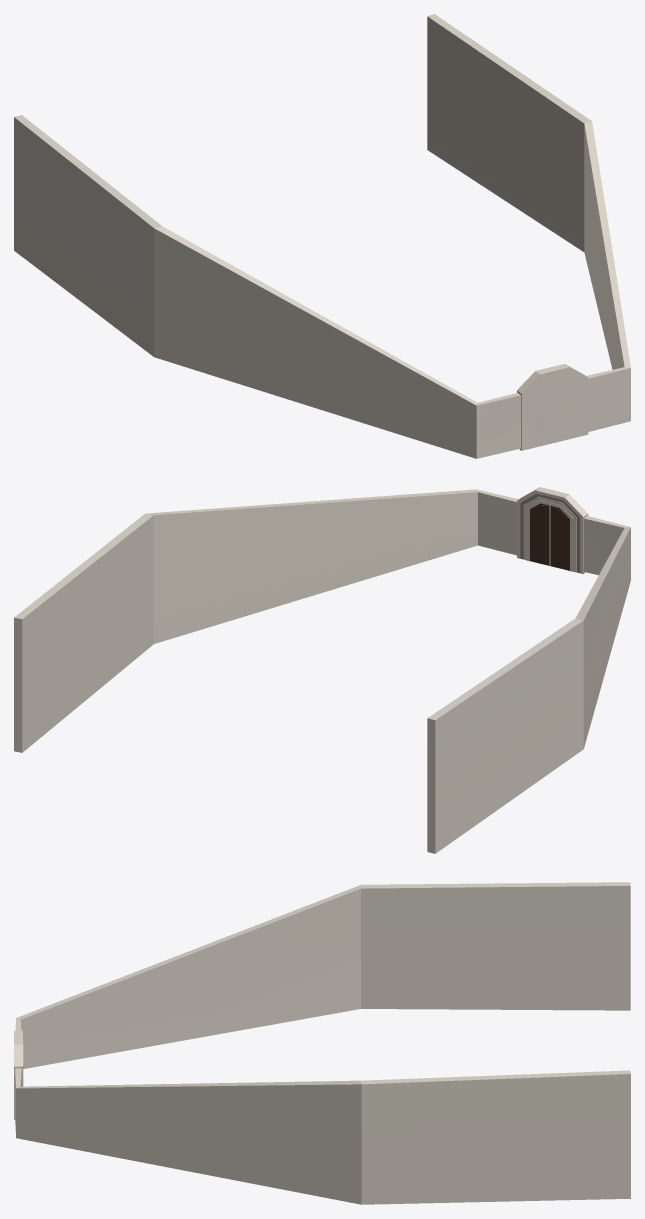
Rendered from temple_walls.gltf.
3 renders of one model, top to bottom at view 1: azimuth 30°, elevation 25°; view 2: azimuth 150°, elevation 25°; view 3: azimuth 270°, elevation 25°, orthographic. The views are drawn at different scales.
Parts seen in each view (by area): view 1: gate and walls; view 2: gate and walls; view 3: gate and walls.
Part boxes in pixels (bbox=[...]): gate and walls: bbox=[14, 14, 630, 458]; gate and walls: bbox=[14, 487, 630, 853]; gate and walls: bbox=[14, 882, 630, 1204].
Bounding box in the file's own units: 133 × 39.39 × 174.
Materials: 1 (1 with a texture image).
